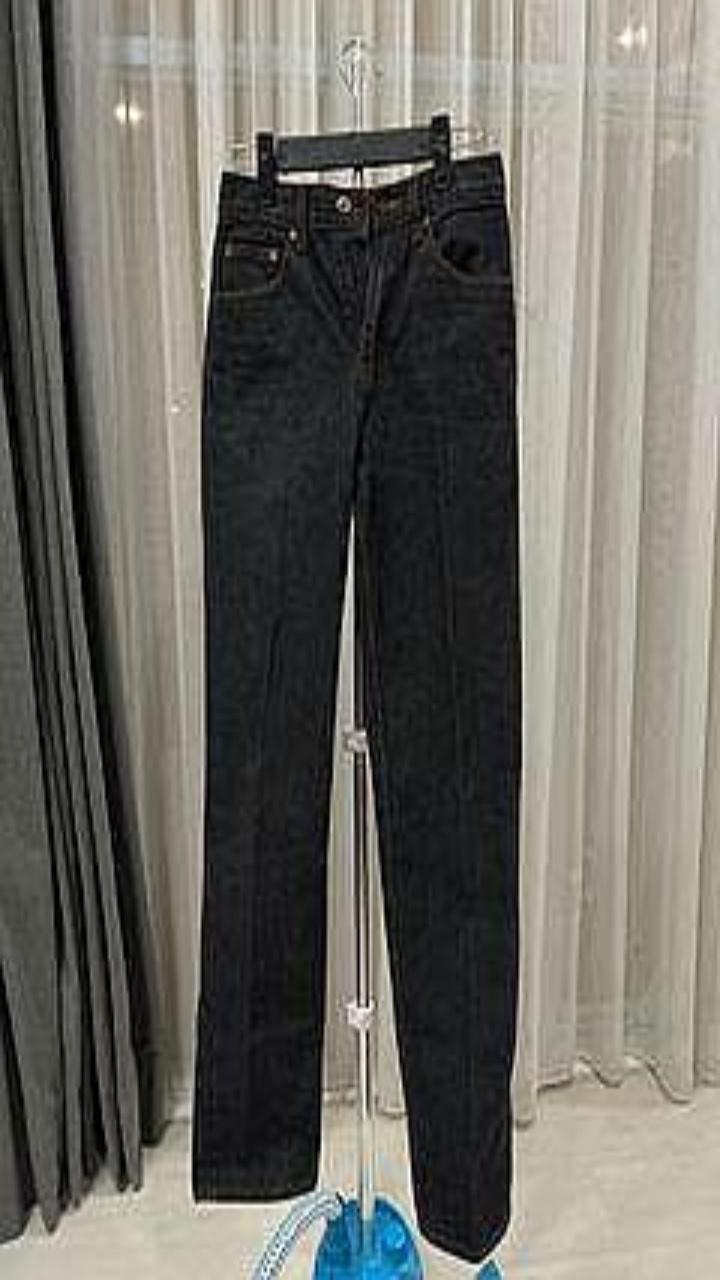Jeans: (193, 152, 520, 1260)
